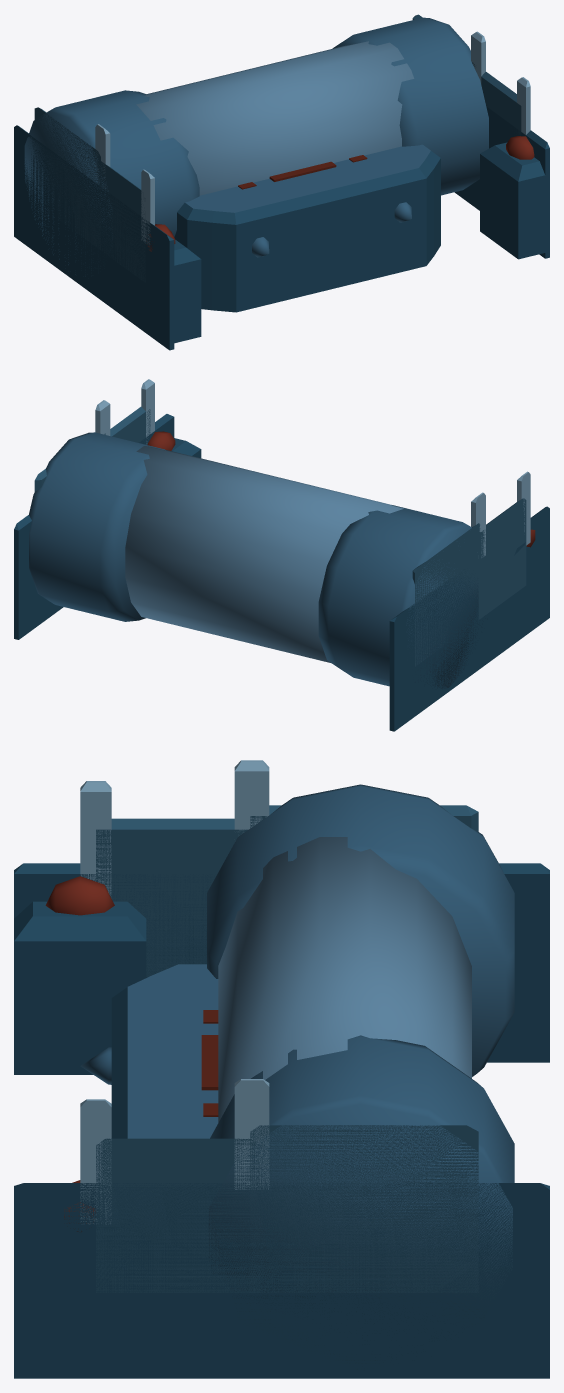
File: newshv-91.glb
3 views of the same model, one above another, from view 1: azimuth 30°, elevation 25°; view 2: azimuth 150°, elevation 25°; view 3: azimuth 270°, elevation 25° (orthographic). The views are drawn at different scales.
Parts seen in each view (by area): view 1: newshv-91; view 2: newshv-91; view 3: newshv-91.
Boxes of the visible parts, x1=… form: newshv-91: x1=14, y1=14, x2=549, y2=350; newshv-91: x1=14, y1=379, x2=549, y2=731; newshv-91: x1=14, y1=760, x2=549, y2=1378.
Bounding box in the file's own units: 2 × 0.9 × 1.42.
